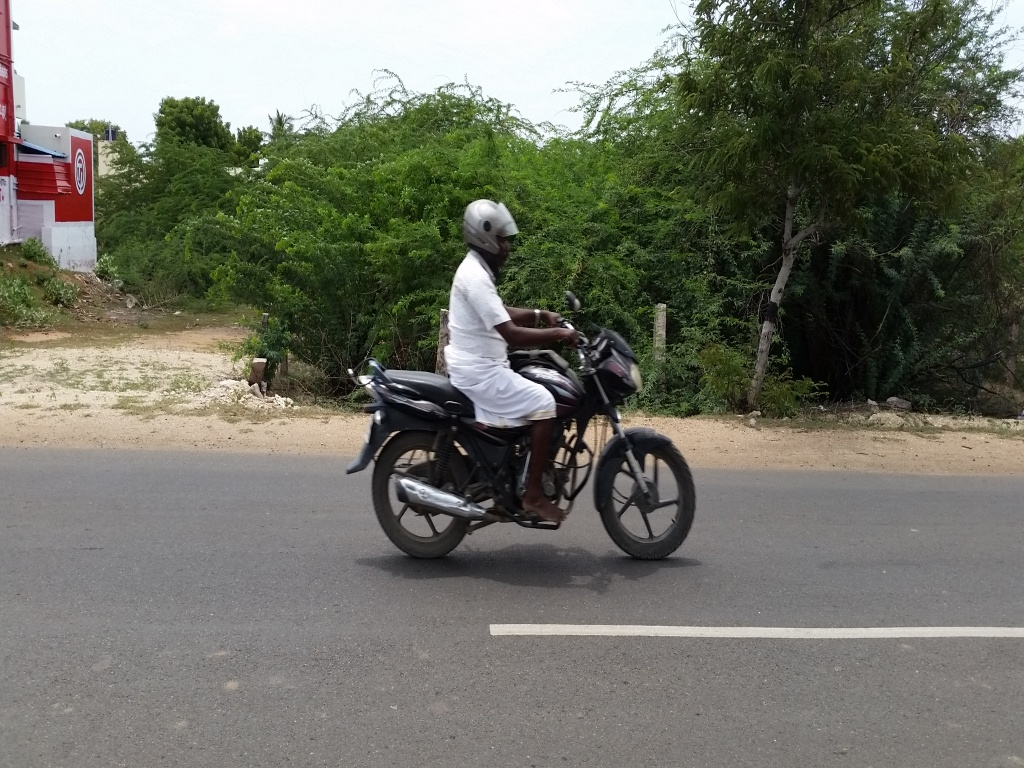biker: (323, 139, 739, 590)
helmet: (456, 186, 526, 280)
